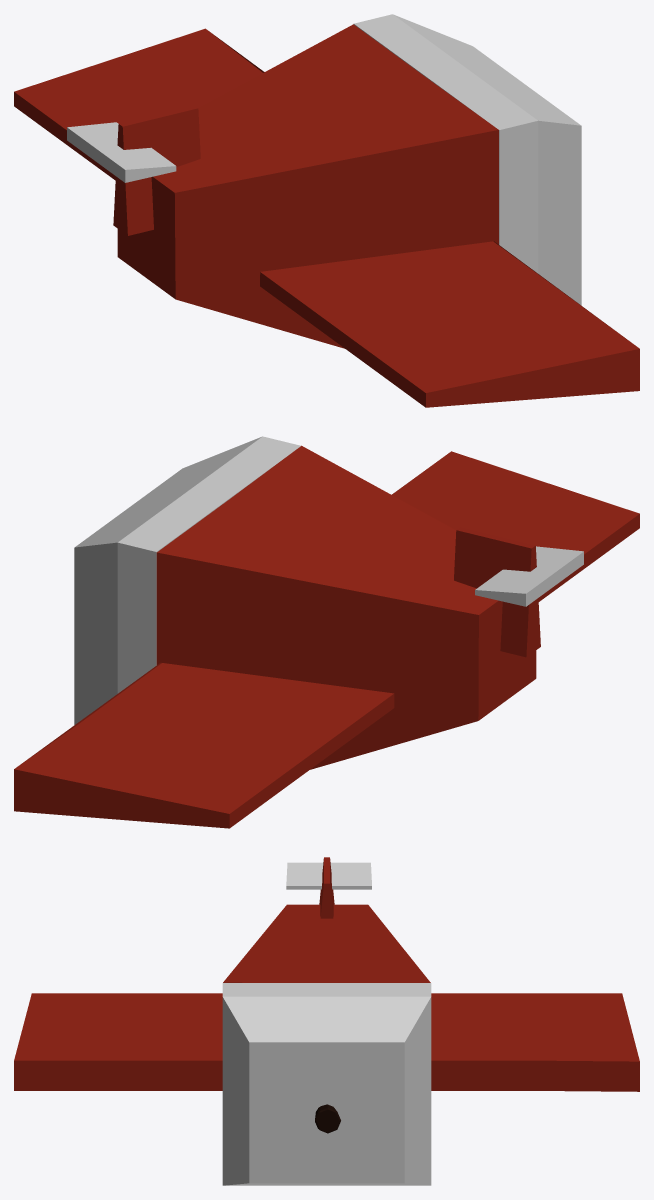
3 renders of one model, top to bottom at view 1: azimuth 30°, elevation 25°; view 2: azimuth 150°, elevation 25°; view 3: azimuth 270°, elevation 25°, orthographic. The views are drawn at different scales.
Parts seen in each view (by area): view 1: corpo, ali.001, ali, Cubo.001, tail, Cubo; view 2: corpo, ali, Cubo.001, ali.001, tail, Cubo; view 3: Cubo.001, ali, ali.001, corpo, Cubo, tail, Cilindro.002.
Part boxes in pixels (left/top/right/bottom): corpo: left=117, top=24, right=498, bottom=348; ali.001: left=14, top=92, right=639, bottom=407; ali: left=14, top=28, right=639, bottom=407; Cubo.001: left=353, top=14, right=581, bottom=305; tail: left=113, top=105, right=200, bottom=235; Cubo: left=67, top=122, right=176, bottom=182; corpo: left=156, top=445, right=536, bottom=769; ali: left=14, top=452, right=639, bottom=828; Cubo.001: left=74, top=436, right=300, bottom=724; ali.001: left=14, top=451, right=639, bottom=828; tail: left=454, top=527, right=540, bottom=657; Cubo: left=475, top=546, right=583, bottom=606; Cubo.001: left=222, top=983, right=431, bottom=1185; ali: left=14, top=993, right=639, bottom=1091; ali.001: left=14, top=993, right=222, bottom=1060; corpo: left=223, top=904, right=430, bottom=982; Cubo: left=286, top=862, right=371, bottom=889; tail: left=319, top=857, right=334, bottom=918; Cilindro.002: left=315, top=1104, right=340, bottom=1133.
Bounding box in the file's own units: 17.98 × 11 × 30.
